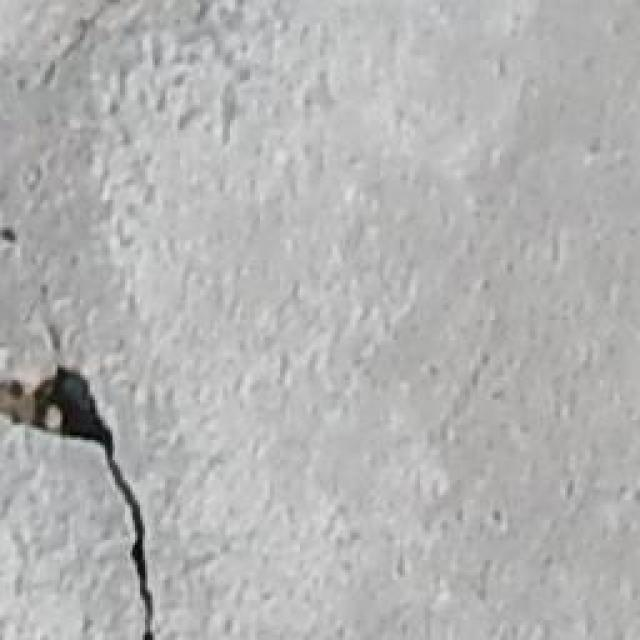concrete-crack: (0, 360, 160, 639)
